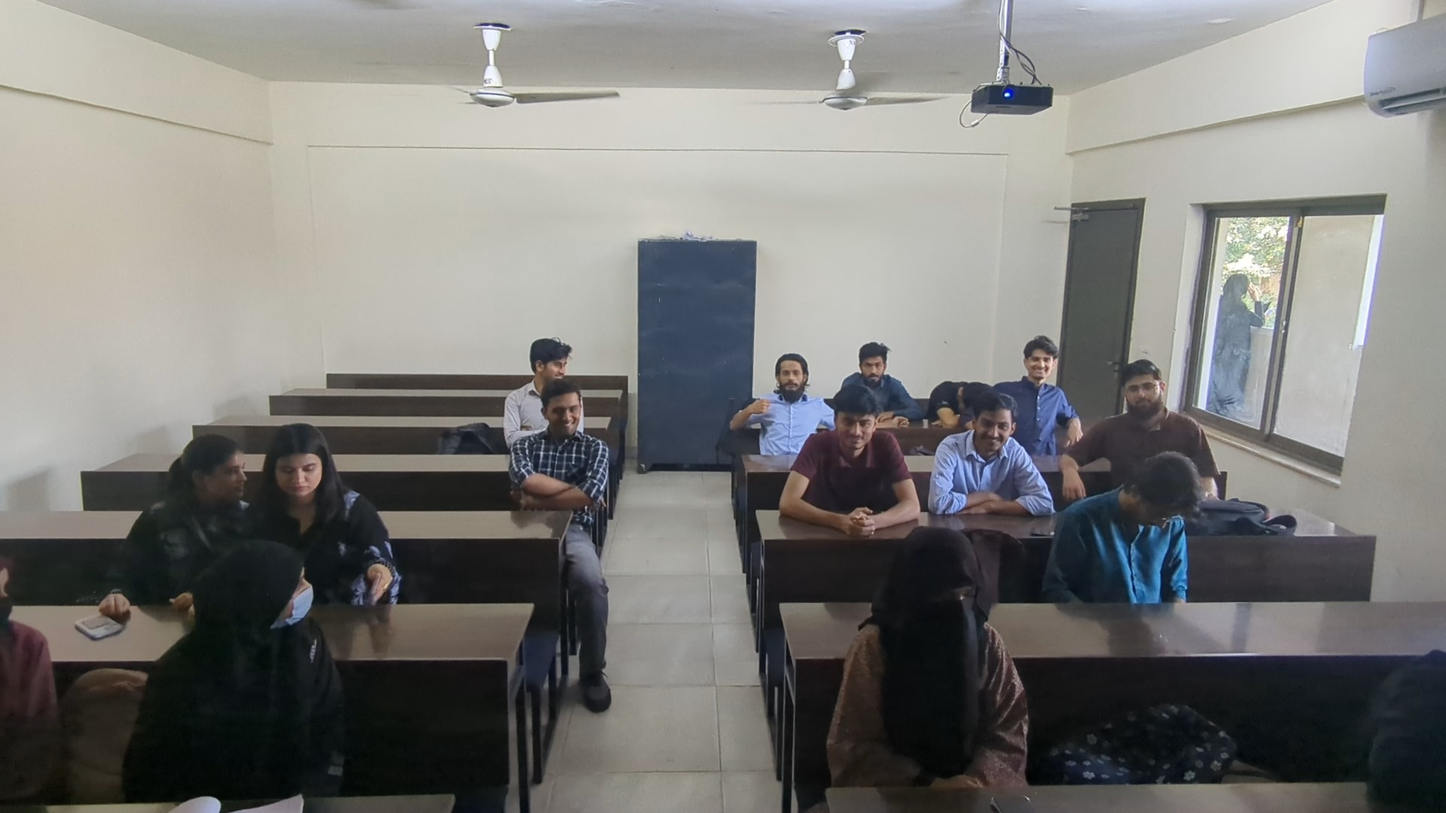look_forward: (796, 525, 1058, 799), (781, 383, 925, 538), (516, 383, 620, 531), (936, 402, 1062, 517), (1098, 360, 1214, 474), (1009, 327, 1081, 448), (737, 357, 819, 460), (848, 336, 903, 386)
read: (264, 418, 400, 602)
sleep: (930, 366, 990, 428)
stand: (1209, 273, 1271, 415)
turn_head: (142, 541, 357, 799), (119, 432, 259, 583), (502, 337, 593, 387)
using_device: (1038, 445, 1206, 599)
